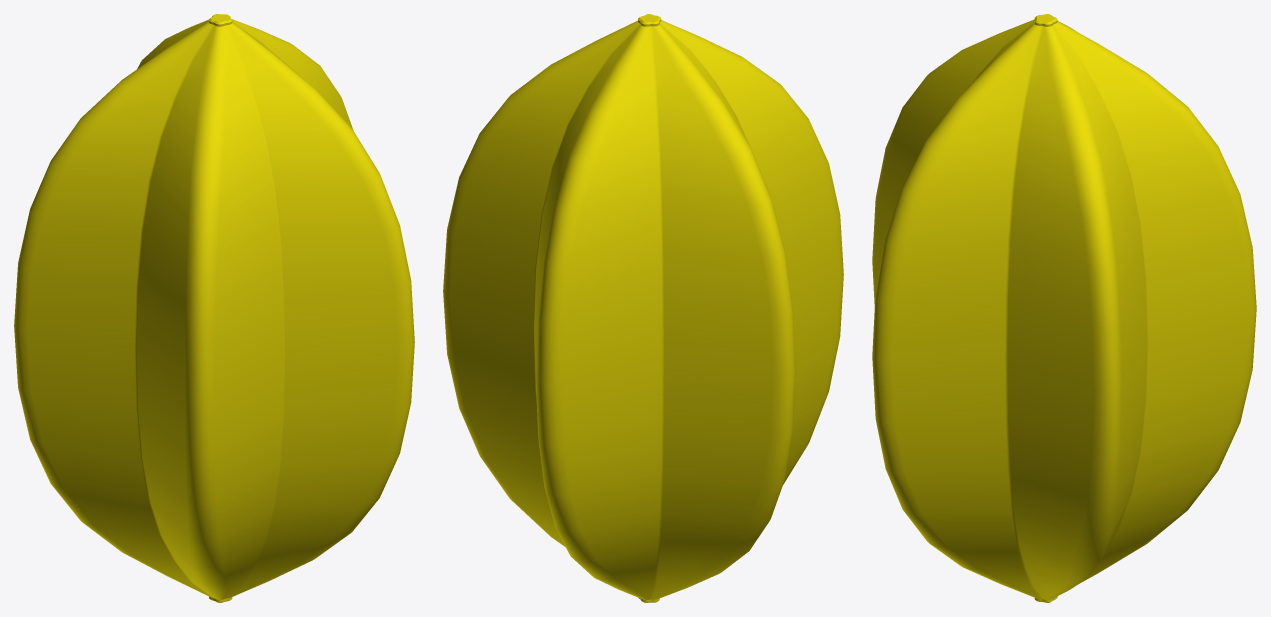
Rendered from StarFruit.fbx.
3 views of the same model, side by side, from view 1: azimuth 30°, elevation 25°; view 2: azimuth 150°, elevation 25°; view 3: azimuth 270°, elevation 25° (orthographic).
Visible parts, largest first — view 1: Circle; view 2: Circle; view 3: Circle.
Part boxes in pixels (x1,y1,x2,y2): Circle: (14,14,414,602); Circle: (443,14,843,602); Circle: (872,14,1256,602).
Size of the model in its own units: 178 by 284 by 170.
